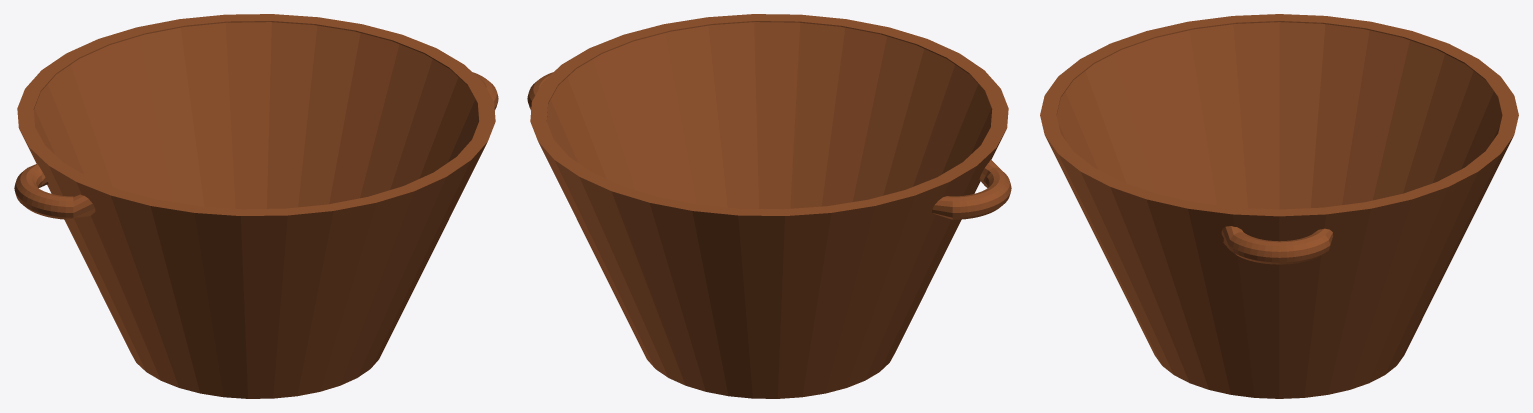
File: Laundry-basket.2.fbx
The picture shows the model from 3 angles, left to right: view 1: azimuth 30°, elevation 25°; view 2: azimuth 150°, elevation 25°; view 3: azimuth 270°, elevation 25°; orthographic projection.
Parts seen in each view (by area): view 1: Cylinder, Torus; view 2: Cylinder, Torus; view 3: Cylinder, Torus.
Boxes of the visible parts, left/top/right/bottom form: Cylinder: left=17, top=14, right=495, bottom=398; Torus: left=14, top=72, right=498, bottom=219; Cylinder: left=530, top=14, right=1008, bottom=398; Torus: left=527, top=72, right=1011, bottom=219; Cylinder: left=1040, top=14, right=1518, bottom=398; Torus: left=1221, top=34, right=1332, bottom=264.
Size of the model in its own units: 426 by 200 by 377.
